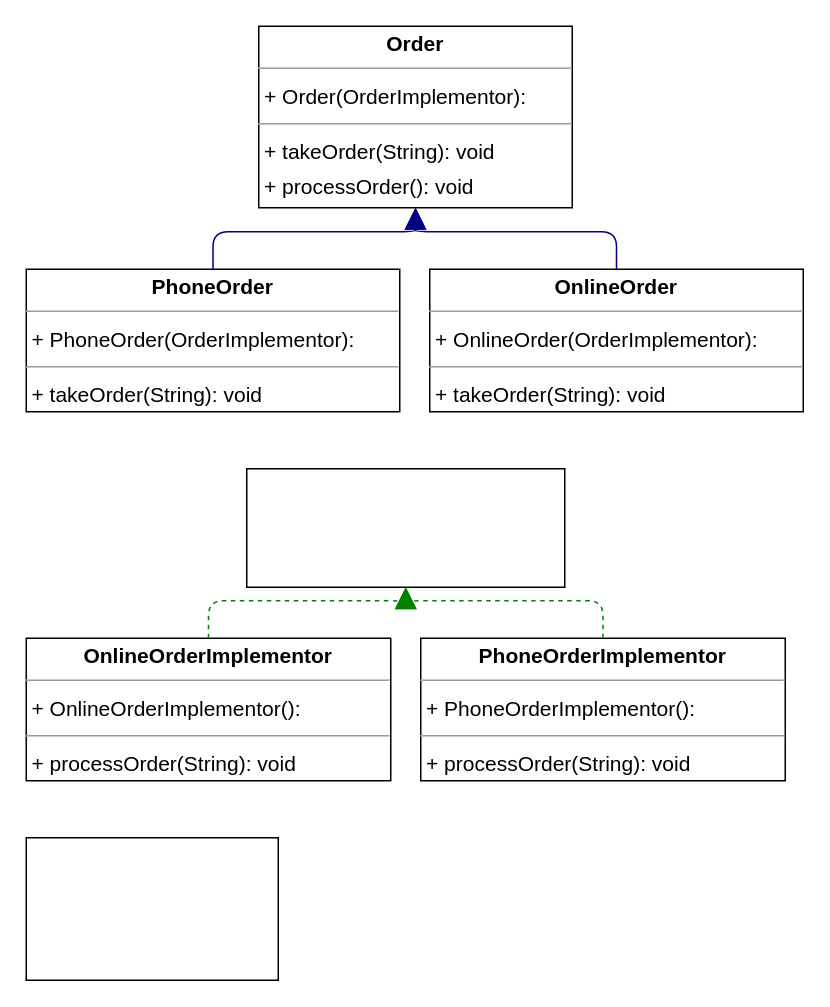
The diagram is 830 pixels wide and 1007 high, and some of its shapes have lost their labels. Each missing label, with the centre of its shape:
<<interface>> OrderImplementor + processOrder(String): void: point 405,527
Main + Main(): + main(String[]): void: point 151,908
